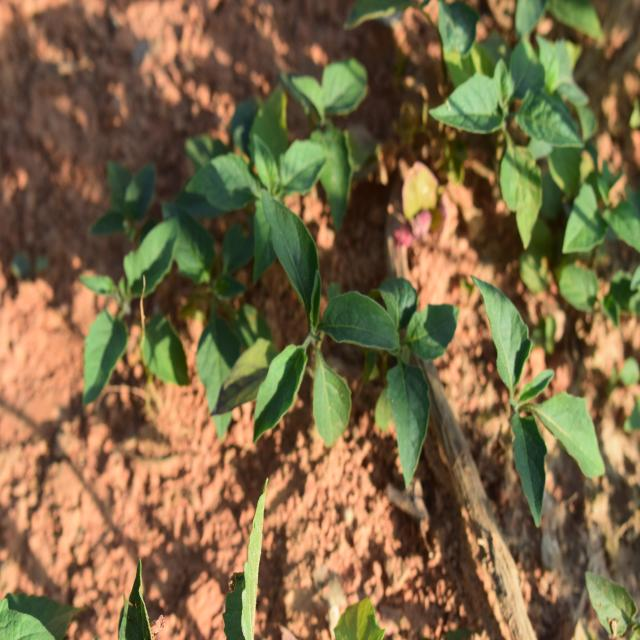Black_nightshade: (84, 172, 221, 395), (260, 198, 368, 470), (480, 278, 600, 522), (357, 264, 473, 478)
